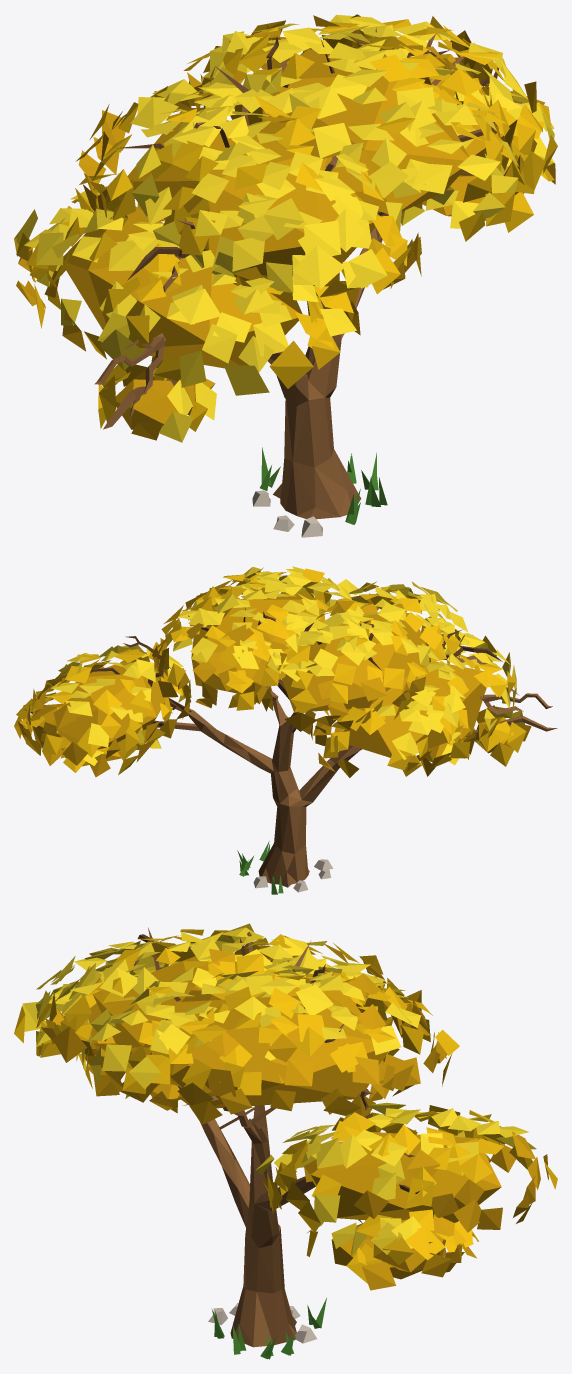
Rendered from guayacan_2_bloom.glb.
3 renders of one model, top to bottom at view 1: azimuth 30°, elevation 25°; view 2: azimuth 150°, elevation 25°; view 3: azimuth 270°, elevation 25°, orthographic. The views are drawn at different scales.
Parts seen in each view (by area): view 1: guayacan_2_bloom; view 2: guayacan_2_bloom; view 3: guayacan_2_bloom.
Boxes of the visible parts, x1,y1,x2,y2 form: guayacan_2_bloom: (14,14,557,537); guayacan_2_bloom: (14,566,557,894); guayacan_2_bloom: (14,923,557,1359).
Bounding box in the file's own units: 9.58 × 6.3 × 8.4.
